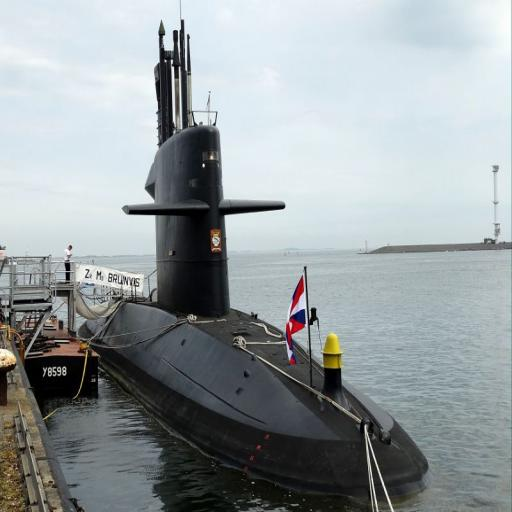submarine: (75, 7, 431, 496)
